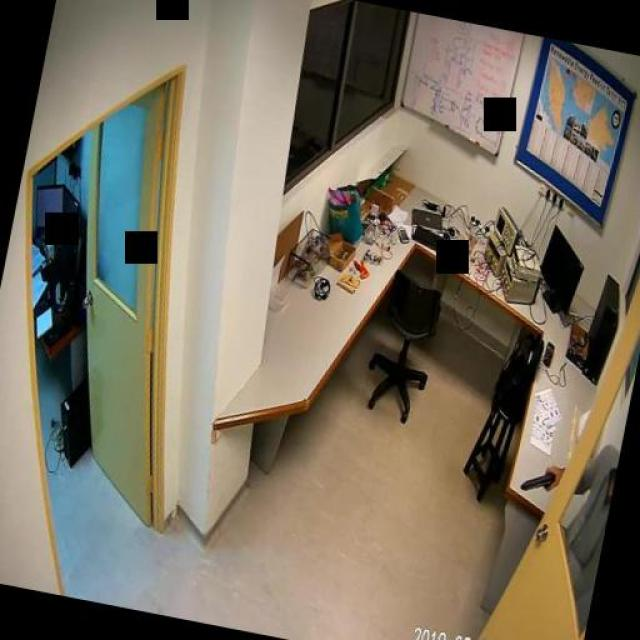gun: (519, 456, 559, 495)
